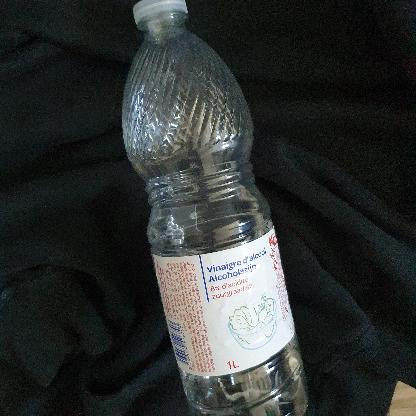Plastic Bottle: (111, 0, 329, 414)
